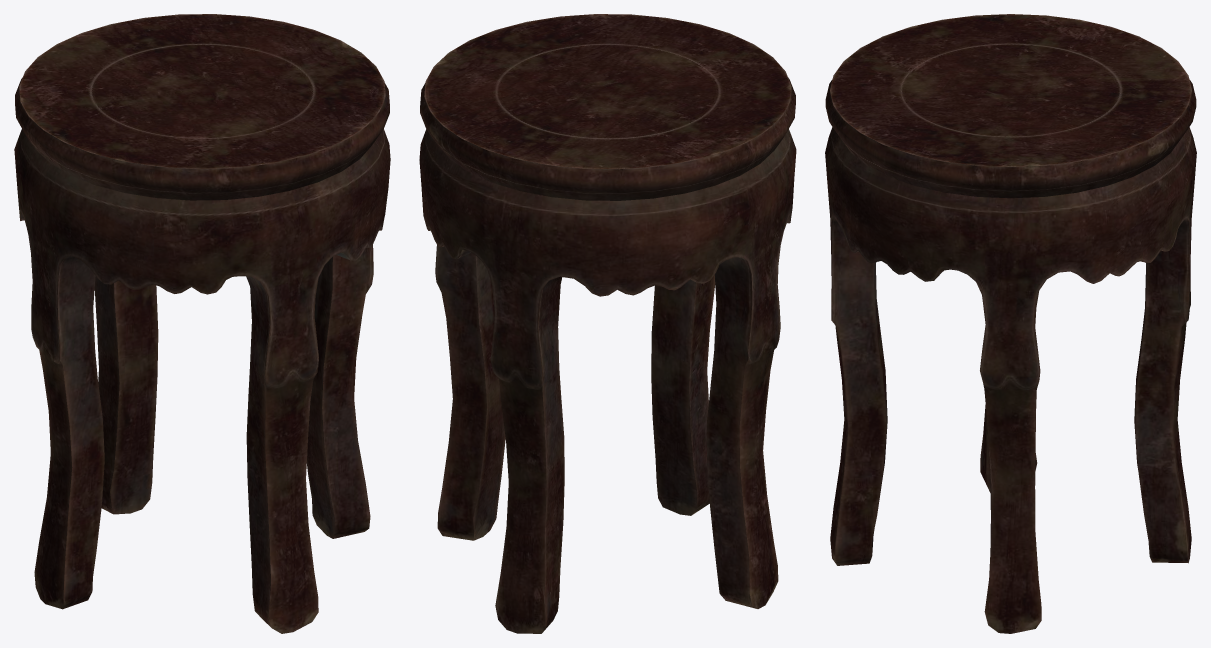
Rendered from WoodenTable_02.glb.
The picture shows the model from 3 angles, left to right: view 1: azimuth 30°, elevation 25°; view 2: azimuth 150°, elevation 25°; view 3: azimuth 270°, elevation 25°; orthographic projection.
Visible parts, largest first — view 1: WoodenTable_02; view 2: WoodenTable_02; view 3: WoodenTable_02.
Part boxes in pixels (x1,y1,x2,y2): WoodenTable_02: (14,14,390,633); WoodenTable_02: (419,14,796,633); WoodenTable_02: (825,14,1196,633).
Bounding box in the file's own units: 0.3007 × 0.4177 × 0.3007.
1 material, 1 textured.
